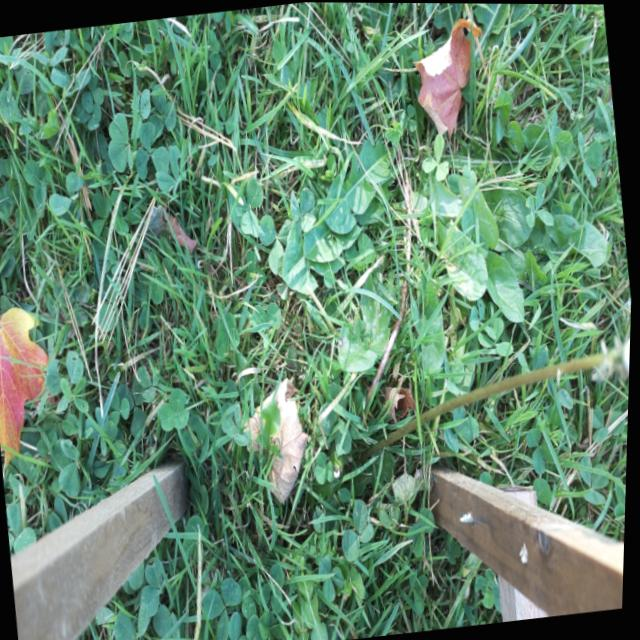base: (364, 430, 389, 469), (355, 396, 377, 432)
